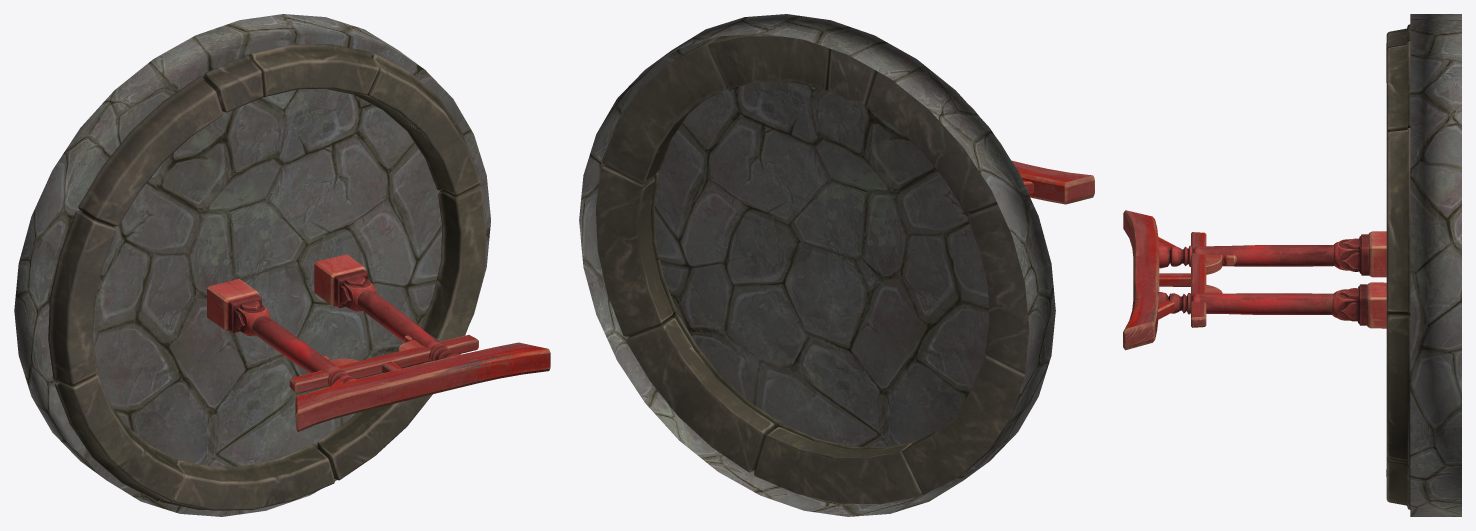
File: steampunk.fbx
The picture shows the model from 3 angles, left to right: view 1: azimuth 30°, elevation 25°; view 2: azimuth 150°, elevation 25°; view 3: azimuth 270°, elevation 25°; orthographic projection. The views are drawn at different scales.
Parts seen in each view (by area): view 1: Cube.032; view 2: Cube.032; view 3: Cube.032.
Part boxes in pixels (x1,y1,x2,y2): Cube.032: (14, 14, 550, 516); Cube.032: (579, 14, 1094, 516); Cube.032: (1123, 14, 1461, 516).
Bounding box in the file's own units: 97.38 × 97.38 × 65.51.
